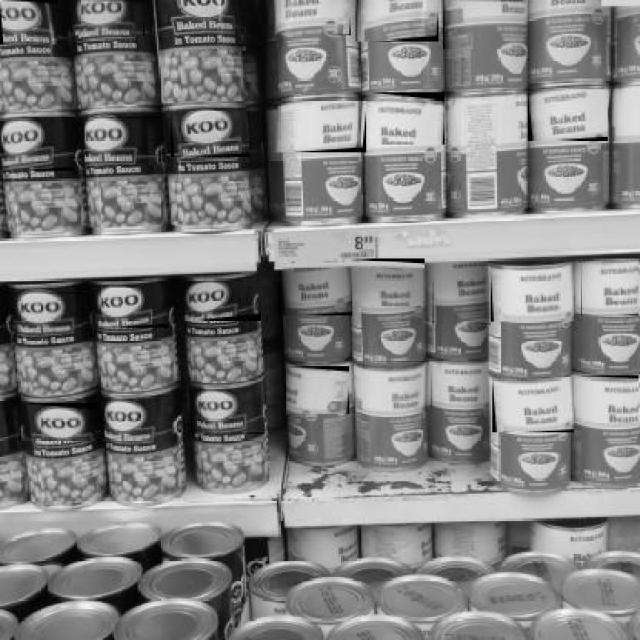Beans: (275, 100, 367, 154), (493, 377, 576, 434), (491, 271, 577, 323), (528, 89, 610, 143), (443, 0, 525, 51), (369, 92, 446, 146), (355, 360, 431, 414), (5, 117, 76, 173), (278, 267, 354, 318), (171, 111, 251, 159), (352, 258, 426, 309), (86, 117, 163, 166), (355, 0, 439, 43), (433, 266, 493, 326), (580, 258, 640, 316), (105, 395, 177, 443), (89, 288, 169, 330), (191, 391, 267, 435), (11, 293, 85, 336), (286, 367, 352, 415), (575, 376, 639, 425), (185, 282, 262, 322), (18, 403, 96, 441), (431, 360, 491, 409), (276, 0, 353, 37), (72, 0, 146, 37), (0, 0, 58, 46)
